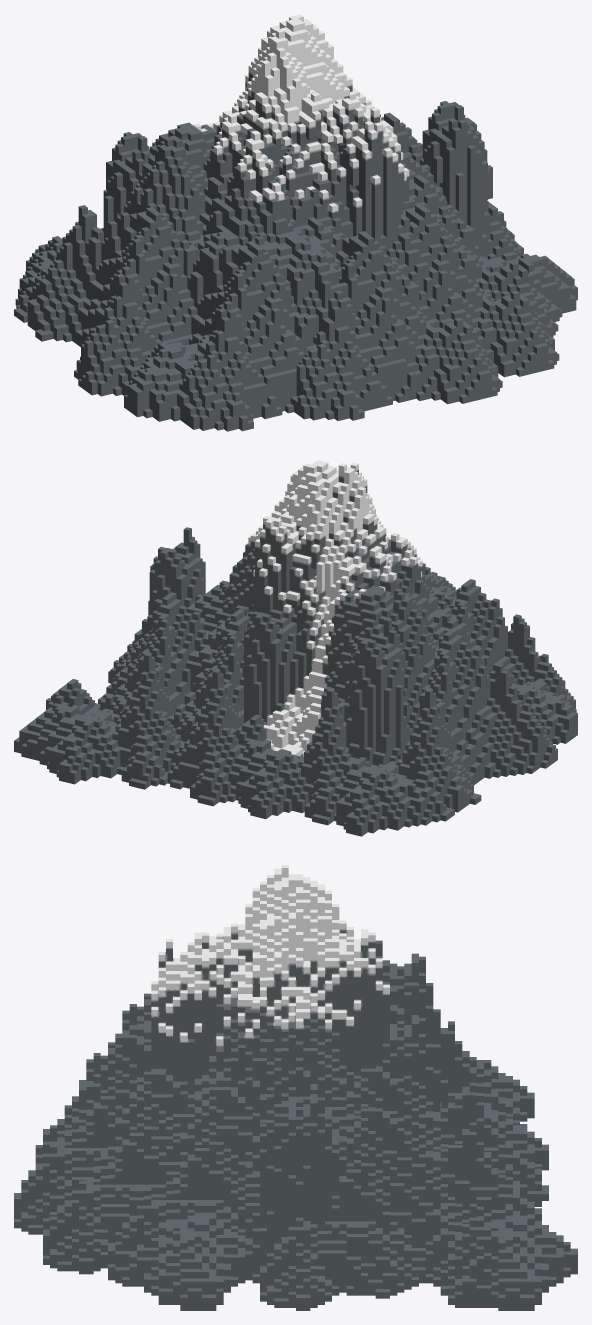
File: big_rocks_2_overtile.glb
3 views of the same model, one above another, from view 1: azimuth 30°, elevation 25°; view 2: azimuth 150°, elevation 25°; view 3: azimuth 270°, elevation 25° (orthographic). The views are drawn at different scales.
Parts seen in each view (by area): view 1: big_rocks_2_overtile; view 2: big_rocks_2_overtile; view 3: big_rocks_2_overtile.
Boxes of the visible parts, x1=… form: big_rocks_2_overtile: x1=14, y1=14, x2=577, y2=431; big_rocks_2_overtile: x1=14, y1=460, x2=577, y2=836; big_rocks_2_overtile: x1=14, y1=865, x2=577, y2=1310.
Size of the model in its own units: 7.9 by 4.8 by 7.8.
Materials: 1 (1 with a texture image).
